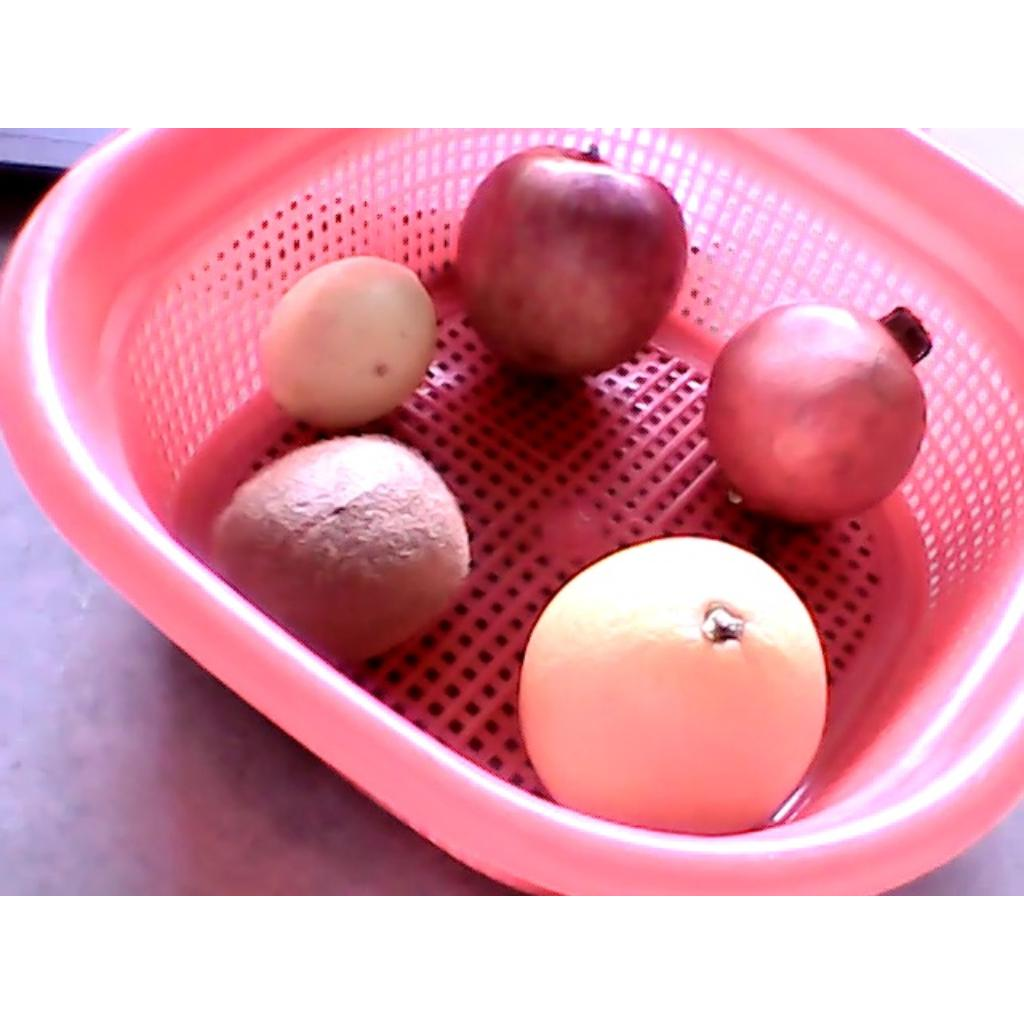apple: (458, 142, 689, 377)
kiwi: (209, 434, 471, 661)
lemon: (261, 257, 435, 430)
orange: (518, 534, 827, 838)
pomegranate: (702, 303, 932, 526)
